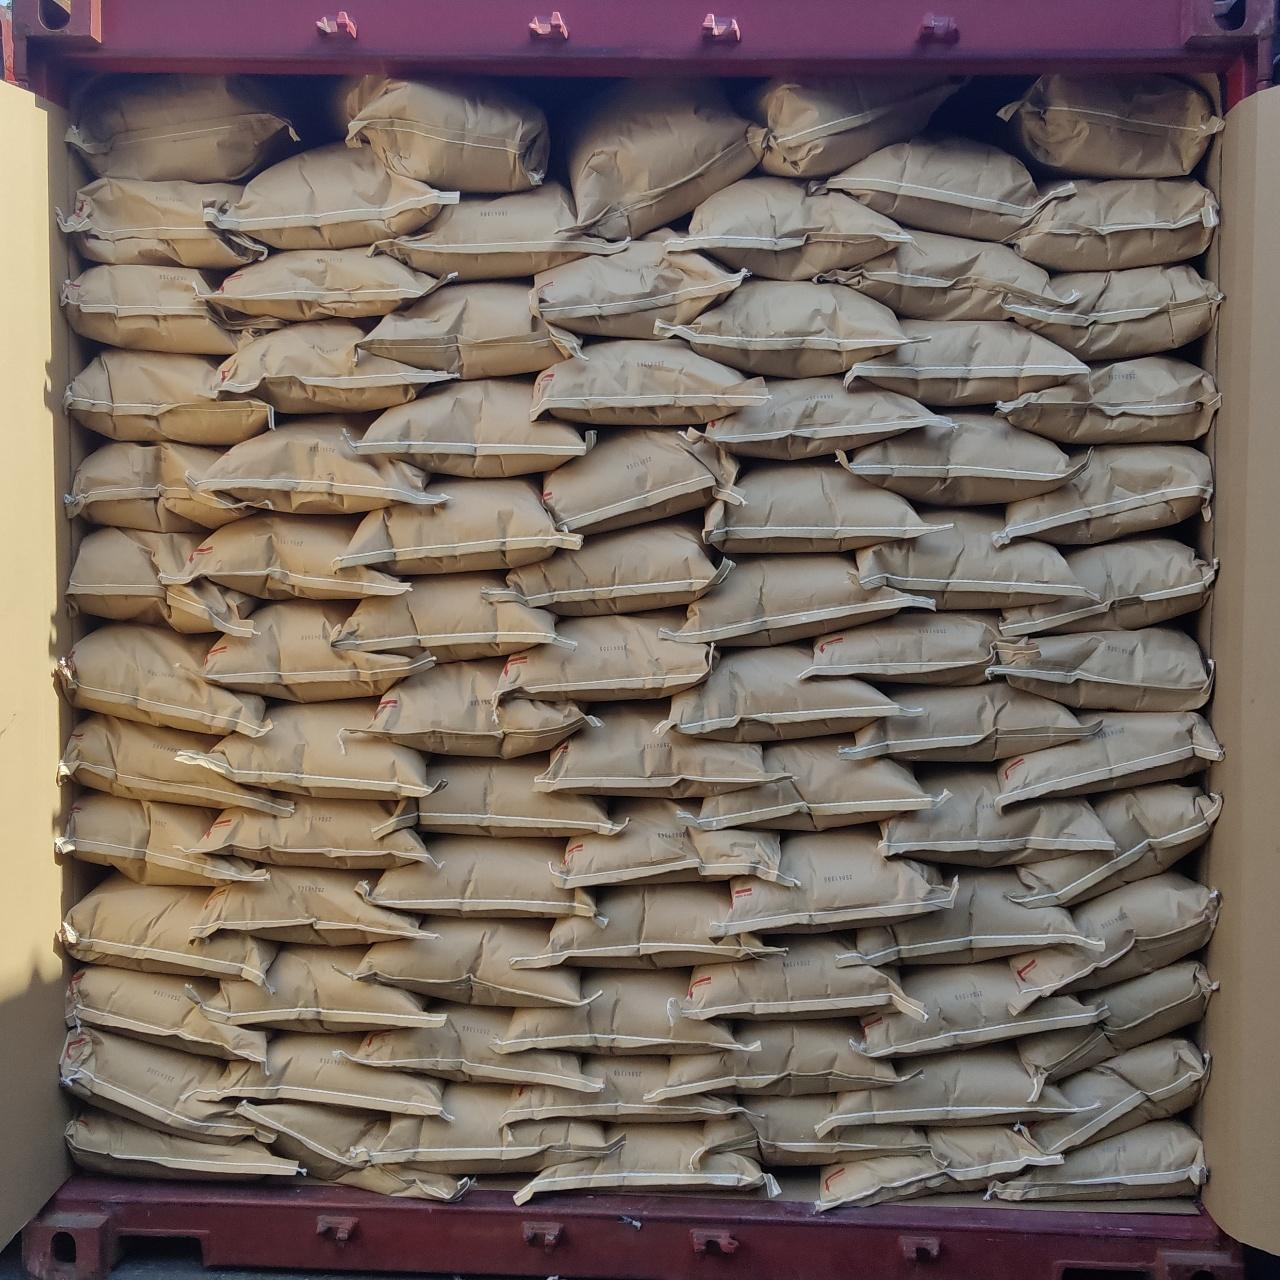sack: (568, 81, 765, 238), (1010, 866, 1214, 1012), (816, 136, 1070, 241), (1010, 782, 1220, 908), (59, 1024, 277, 1144), (1017, 954, 1214, 1085), (840, 869, 1104, 966), (215, 142, 458, 246), (70, 74, 302, 181), (722, 826, 949, 934), (490, 515, 731, 614), (350, 658, 594, 756), (338, 76, 549, 190), (668, 554, 930, 646), (660, 644, 908, 740), (350, 377, 592, 476), (232, 1102, 474, 1200), (377, 182, 622, 278), (195, 416, 444, 510), (338, 478, 580, 574), (540, 700, 782, 796), (64, 872, 274, 982), (198, 700, 433, 798), (992, 712, 1220, 812), (196, 602, 433, 700), (998, 74, 1223, 176), (186, 1032, 450, 1118), (678, 178, 904, 278), (678, 930, 926, 1020), (690, 736, 930, 830), (536, 230, 745, 336), (856, 510, 1088, 606), (64, 714, 288, 813), (366, 1082, 612, 1172), (880, 765, 1110, 862), (994, 445, 1212, 546), (1017, 1034, 1206, 1150), (670, 280, 904, 374), (512, 884, 778, 966), (64, 624, 263, 734), (812, 1126, 1060, 1214), (745, 79, 964, 178), (838, 411, 1078, 502), (862, 960, 1092, 1054), (822, 230, 1068, 318), (818, 1042, 1073, 1126), (1000, 535, 1214, 634), (212, 320, 445, 411), (360, 282, 583, 377), (690, 377, 952, 458), (544, 428, 738, 535), (350, 918, 586, 1006), (560, 798, 796, 886), (847, 320, 1088, 406), (704, 459, 926, 552), (496, 971, 742, 1054), (334, 572, 558, 662), (380, 754, 618, 838), (207, 944, 438, 1030), (70, 527, 258, 634), (1008, 264, 1220, 358), (530, 340, 765, 424), (66, 348, 272, 444), (68, 964, 268, 1062), (358, 1005, 594, 1088), (498, 612, 716, 702), (360, 835, 594, 918), (516, 1124, 778, 1198), (57, 792, 264, 886), (64, 266, 284, 354), (184, 512, 406, 598), (988, 626, 1212, 710), (186, 866, 433, 942), (658, 1017, 903, 1094), (1000, 356, 1218, 442), (844, 682, 1088, 758), (190, 794, 436, 869), (1014, 178, 1216, 270), (64, 178, 263, 268), (794, 612, 1036, 685), (66, 1107, 302, 1180), (986, 1118, 1204, 1198), (204, 246, 445, 318), (72, 442, 256, 532), (702, 1094, 926, 1166), (502, 1056, 742, 1122)
